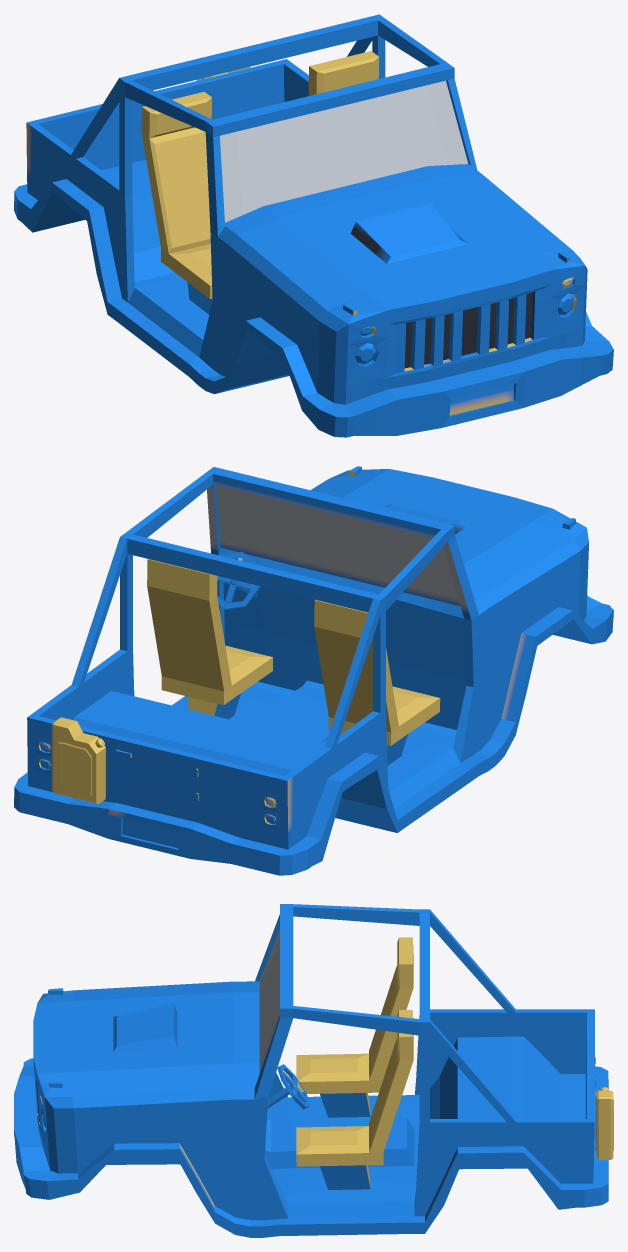
The model's file is buggy.gltf.
3 renders of one model, top to bottom at view 1: azimuth 30°, elevation 25°; view 2: azimuth 150°, elevation 25°; view 3: azimuth 270°, elevation 25°, orthographic. The views are drawn at different scales.
Visible parts, largest first — view 1: buggy; view 2: buggy; view 3: buggy.
Part boxes in pixels (box(x1,y1,x2,y2)): buggy: box(14, 14, 613, 437); buggy: box(14, 466, 613, 875); buggy: box(14, 904, 613, 1237).
Bounding box in the file's own units: 2 × 1.64 × 4.05.
1 material, 1 textured.
